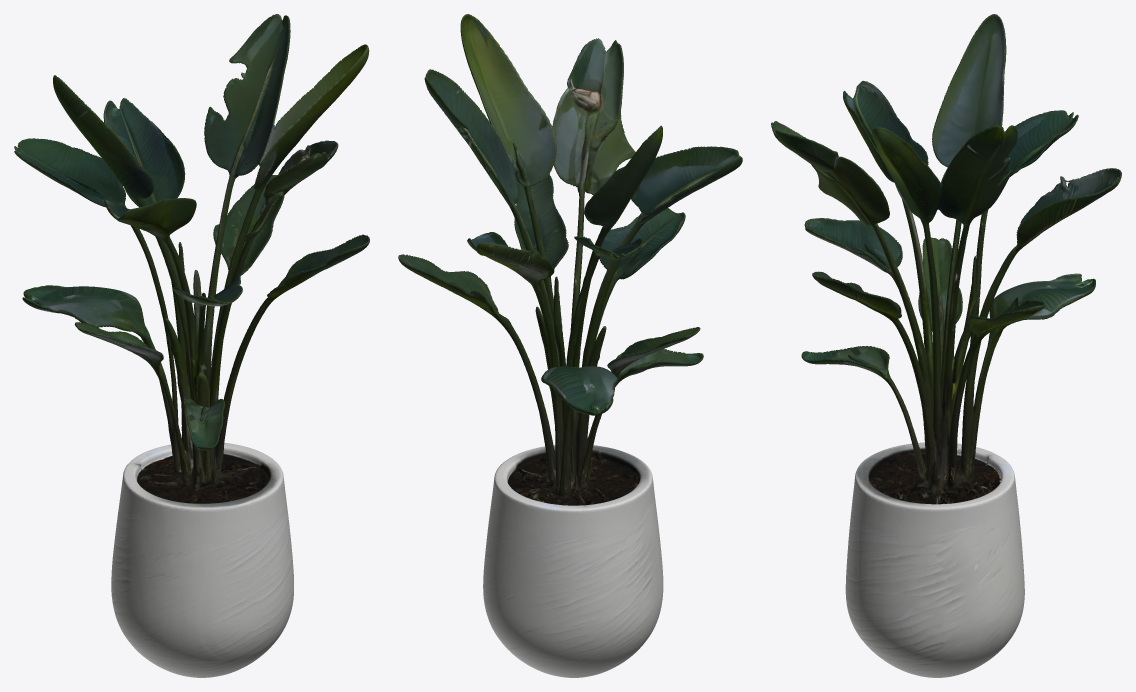
File: 123_Original_14.glb
The picture shows the model from 3 angles, left to right: view 1: azimuth 30°, elevation 25°; view 2: azimuth 150°, elevation 25°; view 3: azimuth 270°, elevation 25°; orthographic projection.
Parts seen in each view (by area): view 1: tripo_node_c9c3154c-64d5-4d41-8771-d19db042466d; view 2: tripo_node_c9c3154c-64d5-4d41-8771-d19db042466d; view 3: tripo_node_c9c3154c-64d5-4d41-8771-d19db042466d.
Boxes of the visible parts, bbox=[...] form: tripo_node_c9c3154c-64d5-4d41-8771-d19db042466d: bbox=[14, 14, 369, 677]; tripo_node_c9c3154c-64d5-4d41-8771-d19db042466d: bbox=[398, 14, 742, 677]; tripo_node_c9c3154c-64d5-4d41-8771-d19db042466d: bbox=[771, 14, 1121, 677].
Size of the model in its own units: 0.4678 by 1 by 0.5253.
1 material, 1 textured.
